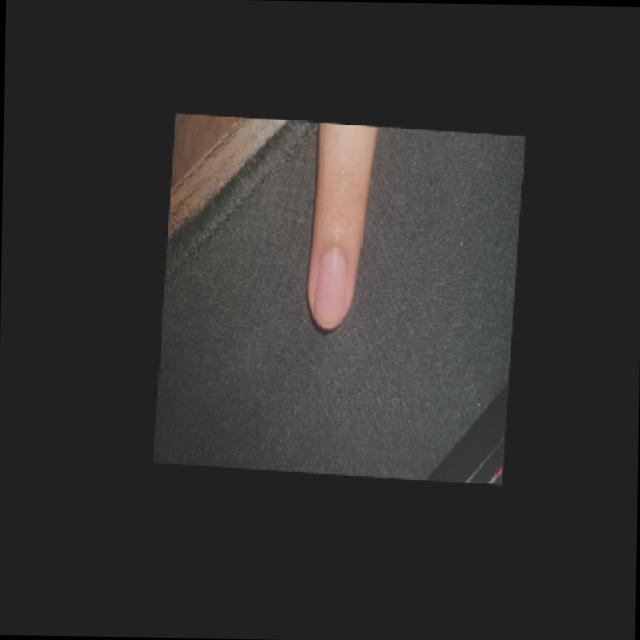Nail: (313, 250, 345, 325)
